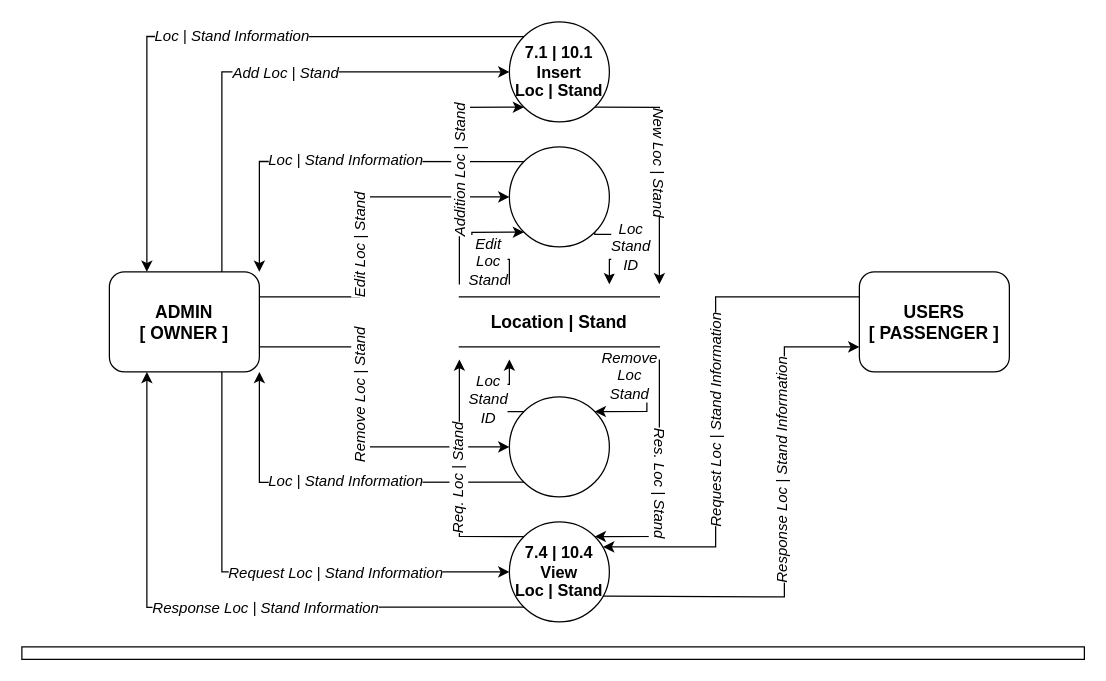
Image size: 1106x681. Some labels were removed from this diagram. The shapes that lost their labels are listed below. From the top down, each one's box as (x1, y1, x2, y2) in pixels, then its label:
(508, 146, 609, 247): 7.2 | 10.2 Update Loc | Stand
(508, 396, 609, 497): 7.3 | 10.3 Delete Loc | Stand
